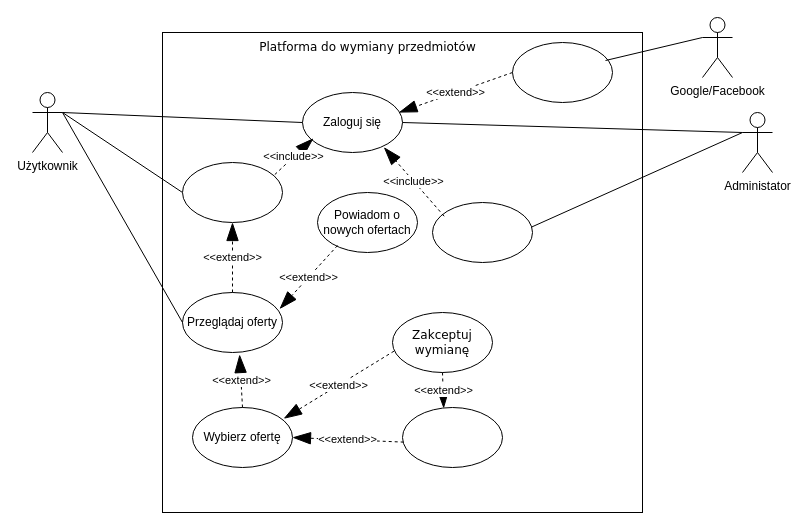
This 808x530 diagram has some shape labels left out. Here are the shapes that lost their labels. From the top down, the centre of each, then its label:
point 562,72: Autoryzuj użytkownika
point 232,192: Dodaj ofertę
point 482,232: Moderuj platformę
point 452,437: Negocjuj ofertę
